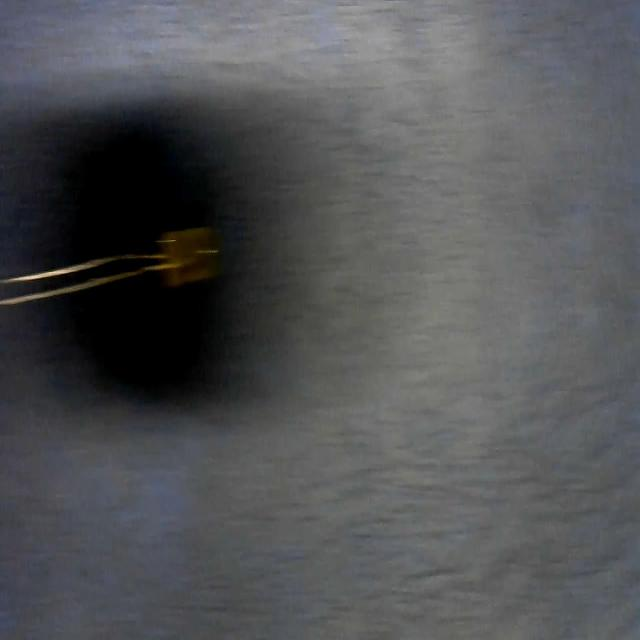LED: (0, 216, 224, 305)
